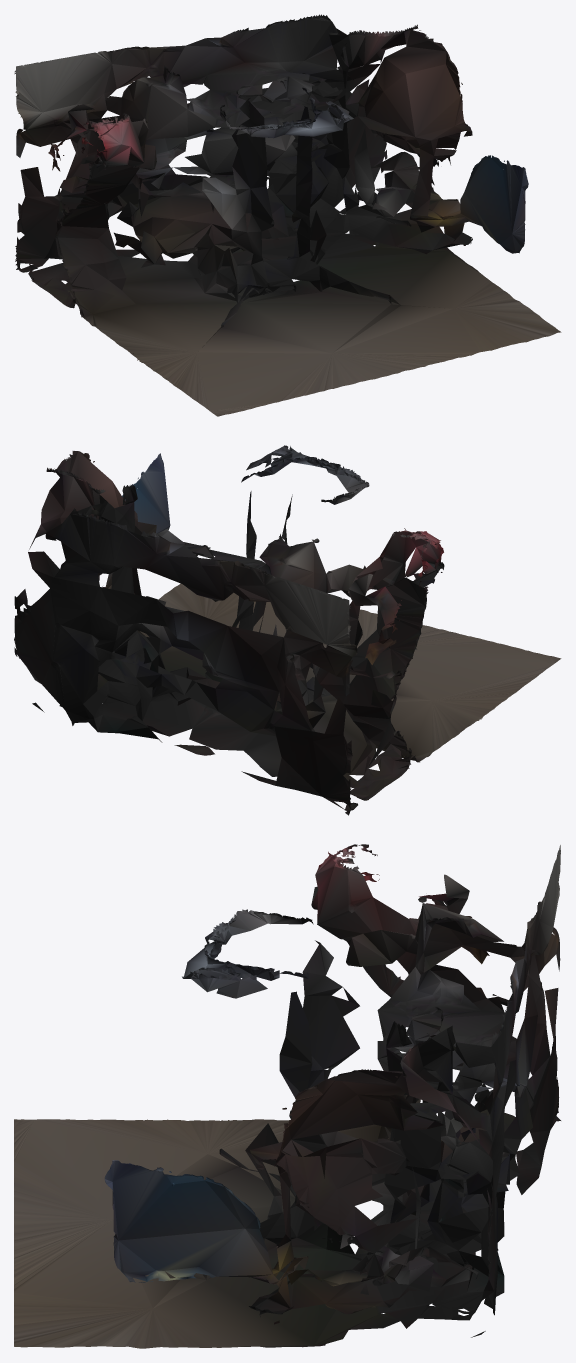
File: coarse.glb
3 renders of one model, top to bottom at view 1: azimuth 30°, elevation 25°; view 2: azimuth 150°, elevation 25°; view 3: azimuth 270°, elevation 25°, orthographic. The views are drawn at different scales.
Size of the model in its own units: 1.67 by 0.9568 by 1.69.
